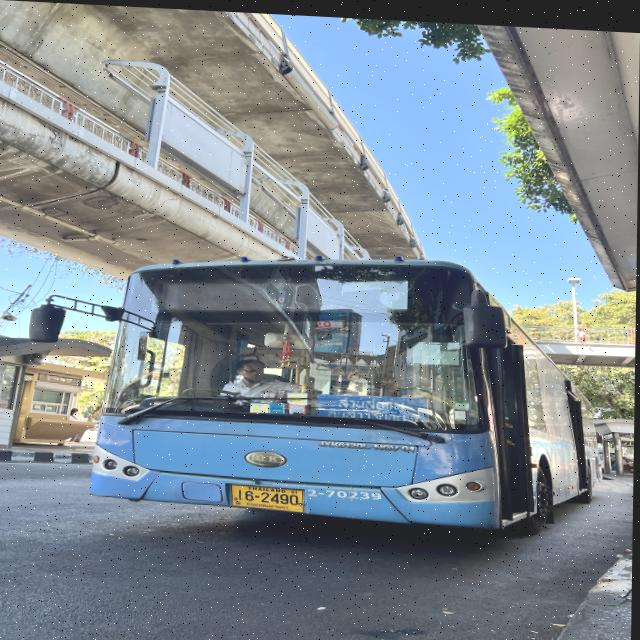BMTA-bus: (90, 255, 601, 528)
Bus Line Number: (323, 272, 407, 308)
Bus Side Number: (305, 483, 386, 497)
Destination Sign: (313, 391, 432, 421)
